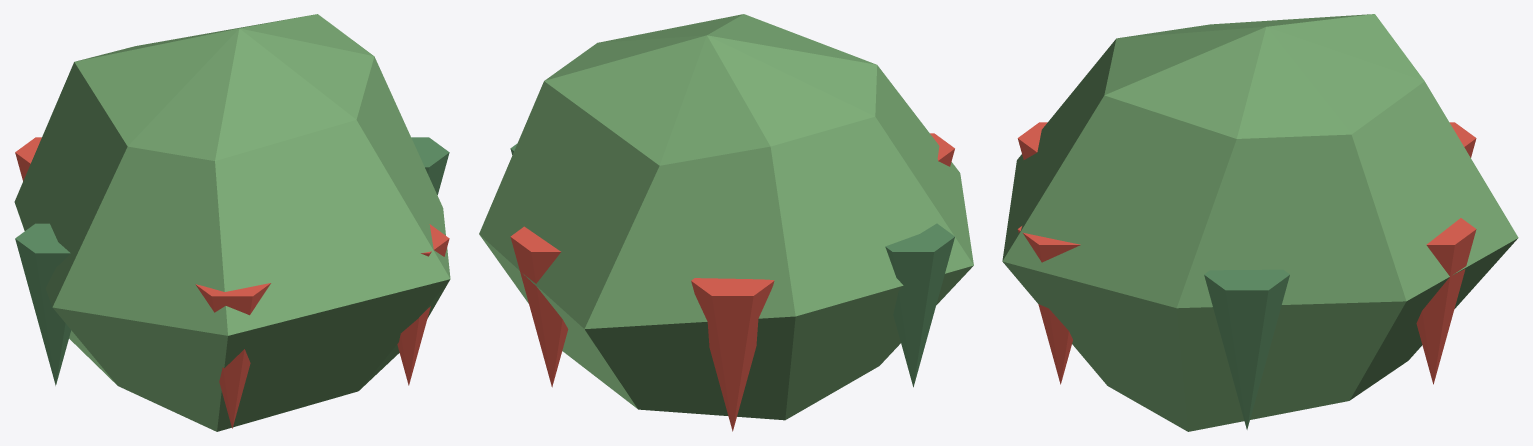
Rendered from pepper.glb.
3 views of the same model, side by side, from view 1: azimuth 30°, elevation 25°; view 2: azimuth 150°, elevation 25°; view 3: azimuth 270°, elevation 25° (orthographic). The views are drawn at different scales.
Parts seen in each view (by area): view 1: pepper; view 2: pepper; view 3: pepper.
Boxes of the visible parts, box(x1,y1,x2,y2) form: pepper: box(14, 14, 450, 431); pepper: box(479, 14, 973, 431); pepper: box(1002, 14, 1518, 431).
Size of the model in its own units: 0.7051 by 0.59 by 0.7196.
